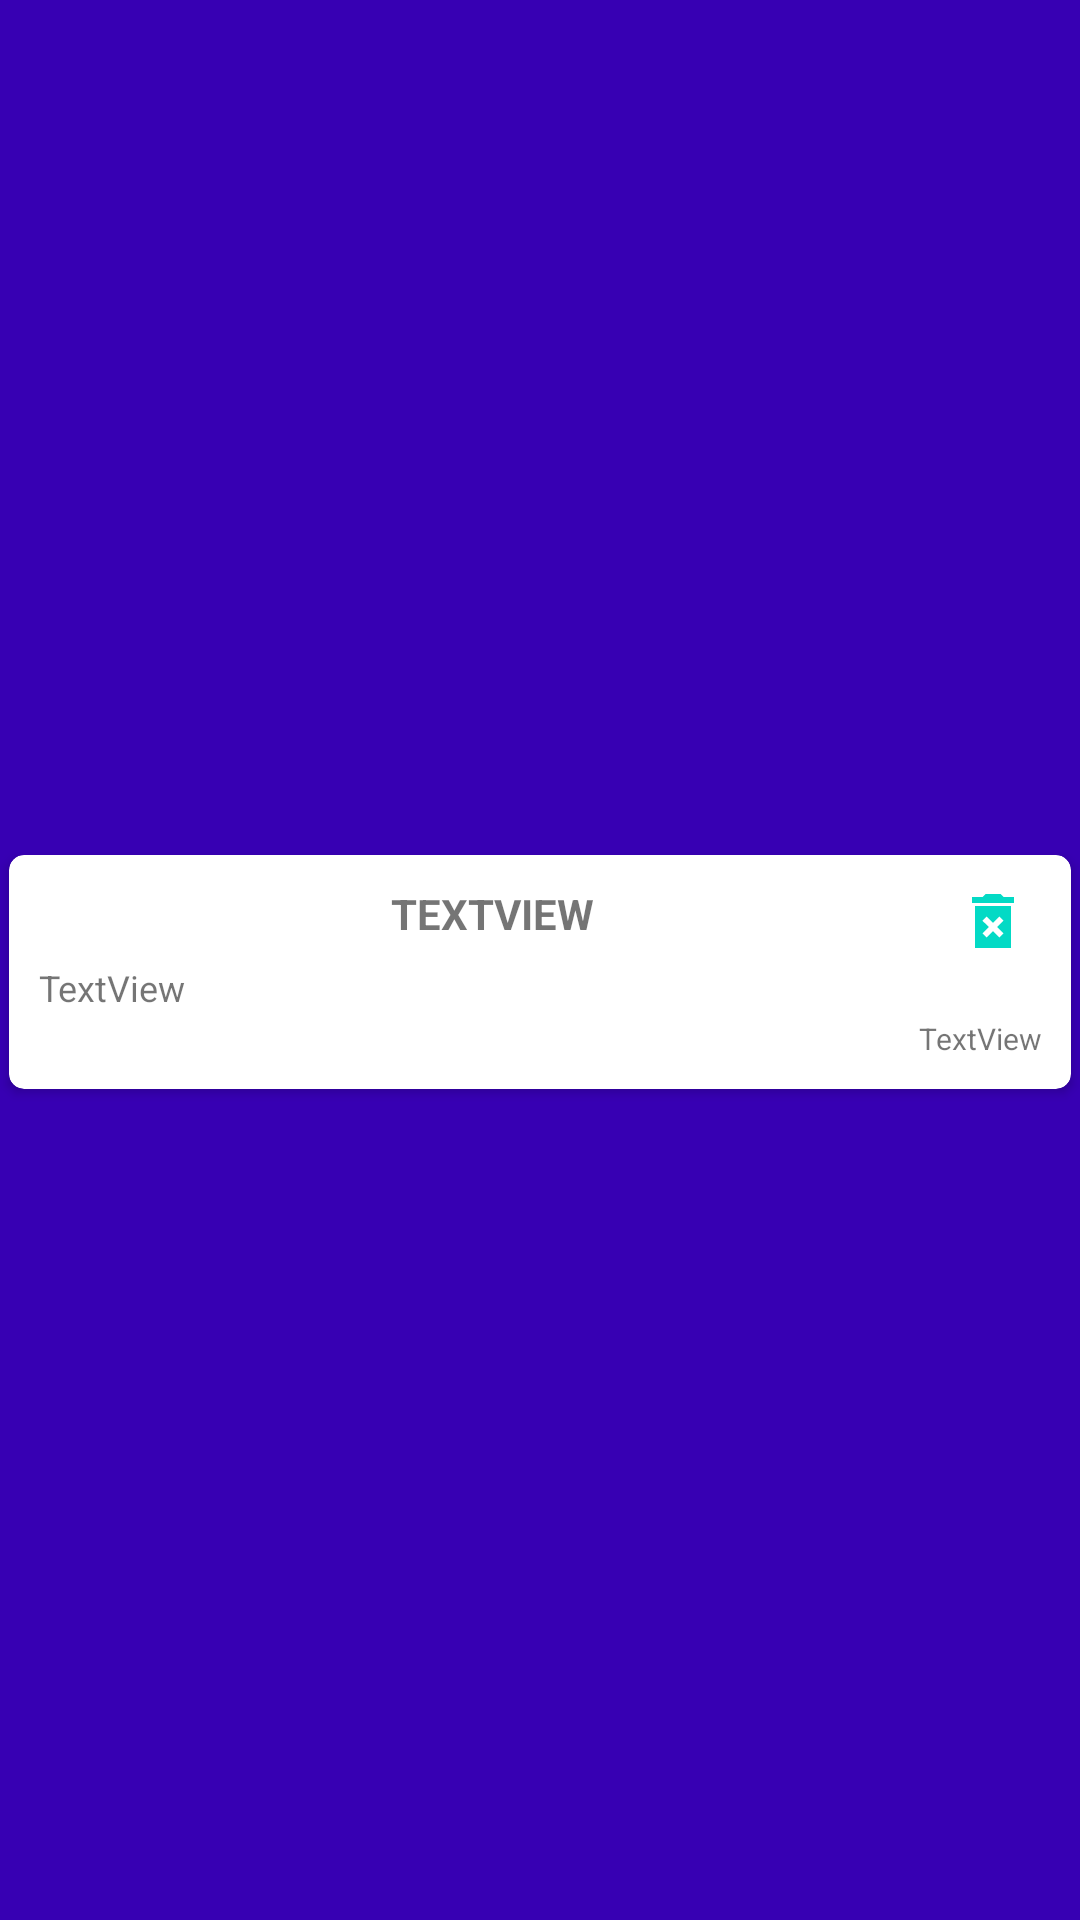

Icon click points for this 1080 x 1920 phone screenshot, format (x,y):
delete: (993,921)
